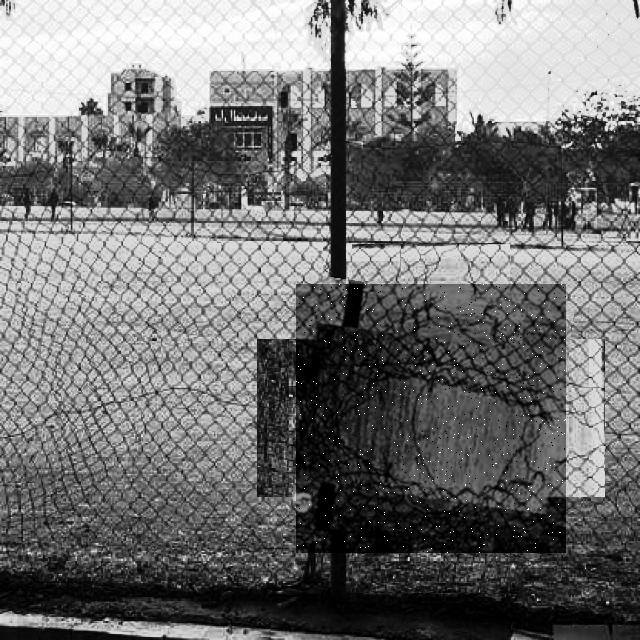anomaly-fence: (296, 284, 566, 553)
